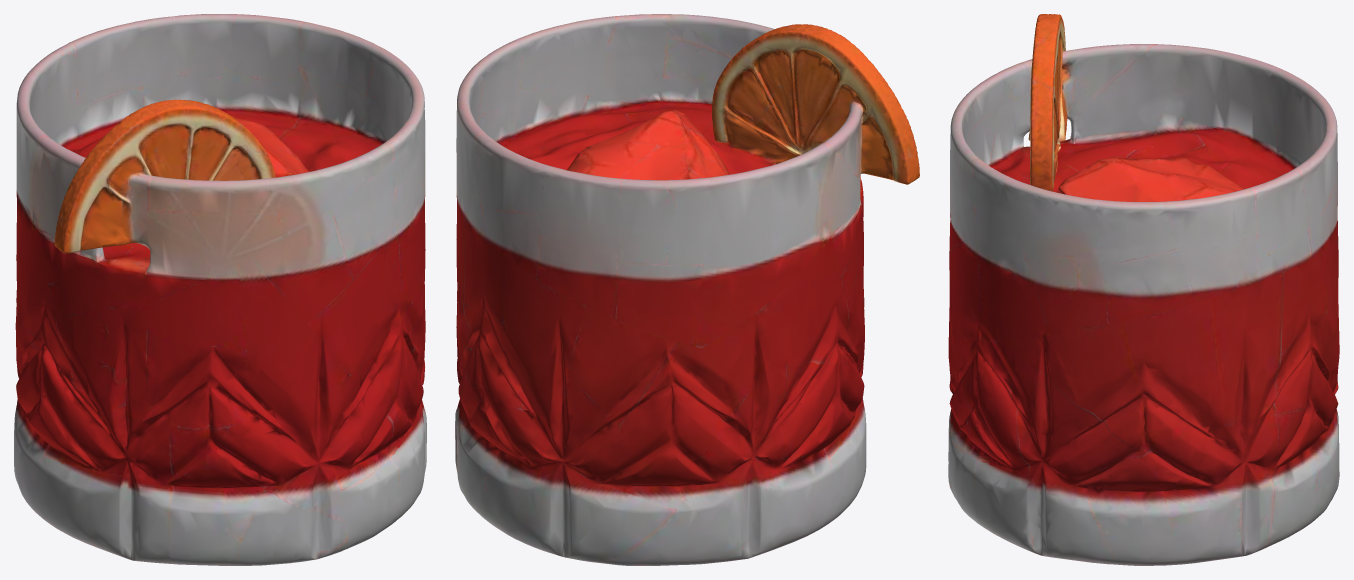
Rendered from negroni.glb.
3 views of the same model, side by side, from view 1: azimuth 30°, elevation 25°; view 2: azimuth 150°, elevation 25°; view 3: azimuth 270°, elevation 25° (orthographic). The views are drawn at different scales.
Parts seen in each view (by area): view 1: mesh_node; view 2: mesh_node; view 3: mesh_node.
Part boxes in pixels (x1=…): mesh_node: x1=14, y1=14, x2=426, y2=565; mesh_node: x1=455, y1=14, x2=919, y2=565; mesh_node: x1=948, y1=14, x2=1339, y2=565.
Size of the model in its own units: 0.0828 by 0.09 by 0.076.
Materials: 1 (1 with a texture image).
